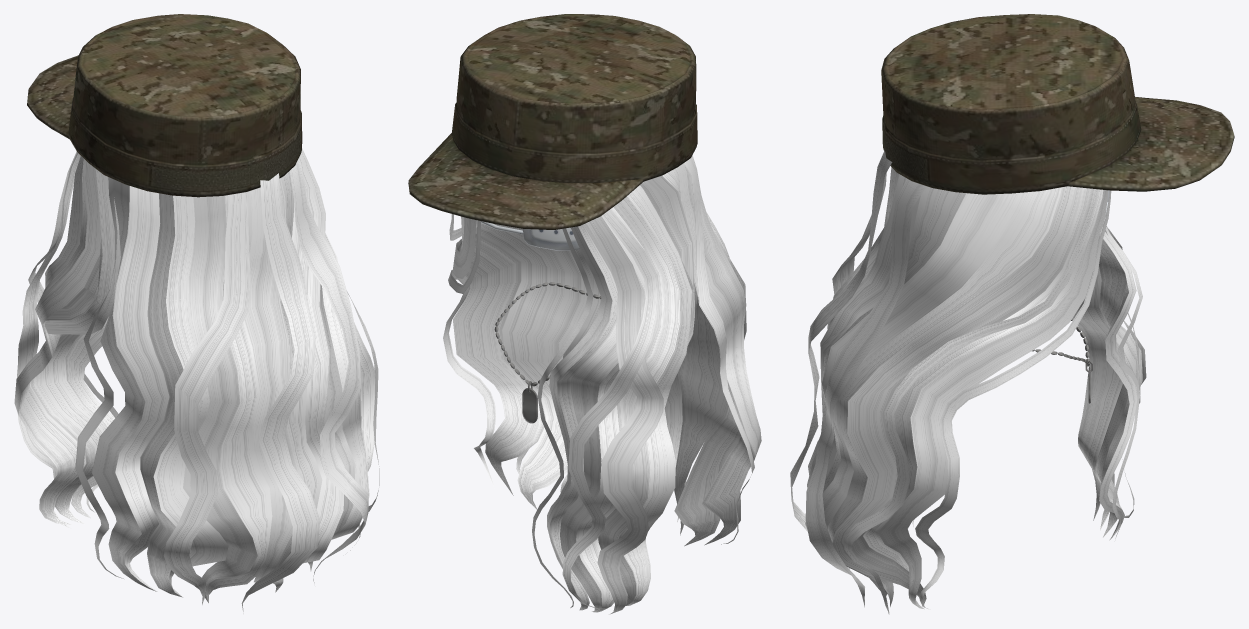
File: acc.glb
3 renders of one model, left to right at view 1: azimuth 30°, elevation 25°; view 2: azimuth 150°, elevation 25°; view 3: azimuth 270°, elevation 25°, orthographic. The views are drawn at different scales.
Parts seen in each view (by area): view 1: Handle.003, Handle.002; view 2: Handle.003, Handle.002, Handle, Handle.001; view 3: Handle.003, Handle.002.
Part boxes in pixels (x1=…): Handle.003: x1=14, y1=148, x2=379, y2=613; Handle.002: x1=27, y1=14, x2=302, y2=197; Handle.003: x1=443, y1=155, x2=761, y2=614; Handle.002: x1=408, y1=14, x2=697, y2=229; Handle: x1=494, y1=282, x2=601, y2=423; Handle.001: x1=481, y1=221, x2=579, y2=250; Handle.003: x1=790, y1=150, x2=1146, y2=614; Handle.002: x1=881, y1=14, x2=1234, y2=194.
Size of the model in its own units: 2.06 by 3.42 by 2.6.
Materials: 4 (4 with a texture image).
